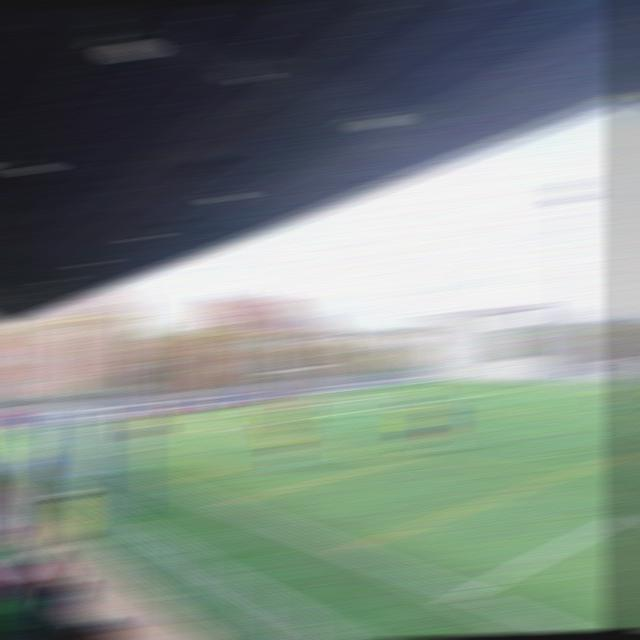bigarea_bottom_inner: (211, 426, 234, 434)
bigarea_top_inner: (489, 388, 512, 398)
bigarea_top_outter: (394, 388, 418, 393)
bottom_arc_area_intersection: (327, 408, 352, 418)
corner: (444, 383, 466, 387)
midline_bottom_intersection: (446, 577, 491, 611)
smallarea_bottom_outter: (225, 408, 247, 412)
smallarea_top_inner: (365, 394, 387, 401)
smallarea_top_outter: (340, 396, 360, 398)
